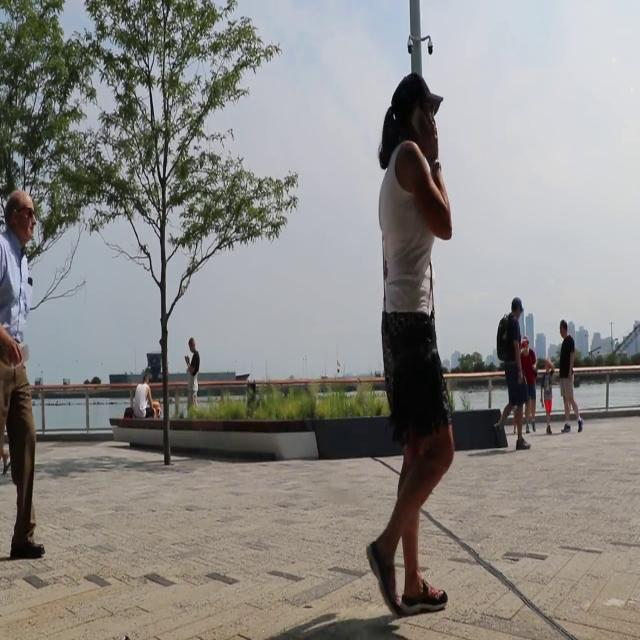normal: (357, 66, 456, 616), (2, 188, 52, 566)
